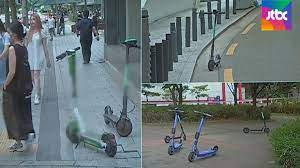kick_board: (56, 47, 115, 156), (104, 37, 140, 135), (189, 111, 218, 161), (203, 10, 226, 70), (243, 105, 268, 133)
kick_body: (251, 128, 263, 130)
kick_handler: (55, 47, 82, 60), (119, 38, 140, 50), (193, 111, 213, 119), (205, 9, 225, 14), (169, 109, 183, 115)
kick_neck: (212, 17, 216, 60), (260, 111, 266, 125)
kick_wheel: (65, 123, 82, 144), (102, 136, 117, 156), (116, 117, 132, 135), (188, 151, 196, 162), (105, 107, 110, 123), (208, 61, 215, 70), (264, 127, 271, 135), (213, 146, 218, 156), (164, 137, 171, 144), (243, 127, 249, 134)
